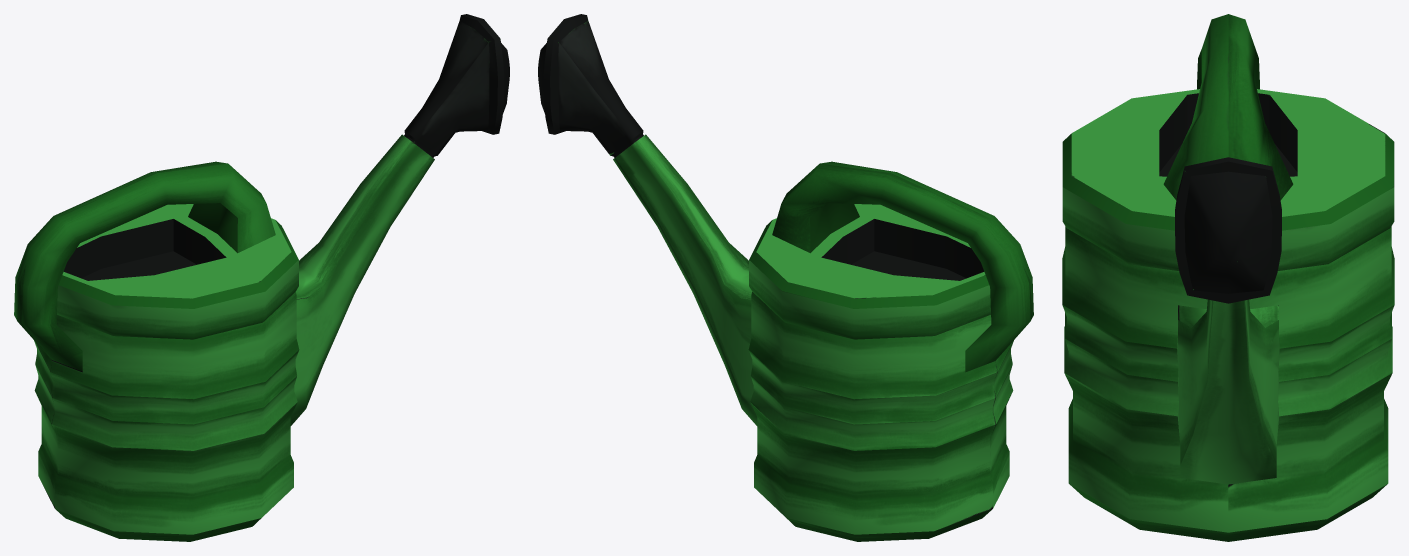
File: WateringCan.fbx
3 views of the same model, side by side, from view 1: azimuth 30°, elevation 25°; view 2: azimuth 150°, elevation 25°; view 3: azimuth 270°, elevation 25° (orthographic). The views are drawn at different scales.
Parts seen in each view (by area): view 1: Watering Can; view 2: Watering Can; view 3: Watering Can.
Part boxes in pixels (x1,y1,x2,y2): Watering Can: (14, 14, 509, 541); Watering Can: (538, 14, 1033, 541); Watering Can: (1062, 14, 1394, 541).
Bounding box in the file's own units: 99.77 × 81.18 × 45.07.
